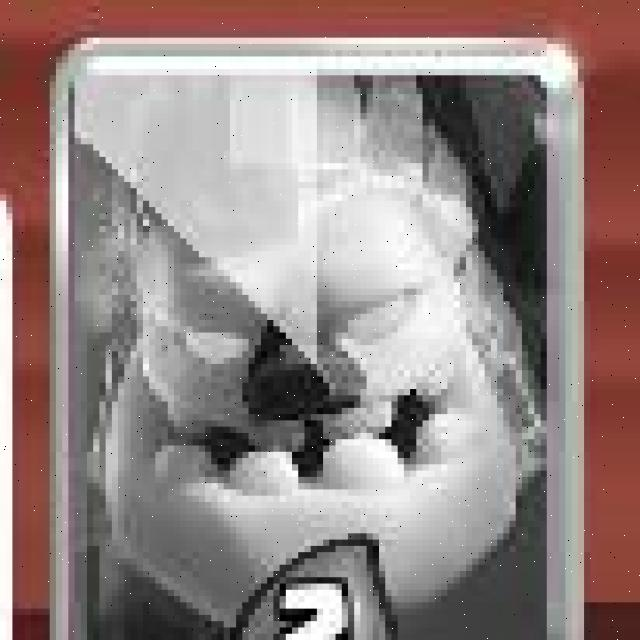Ice_Golem: (49, 38, 580, 640)
